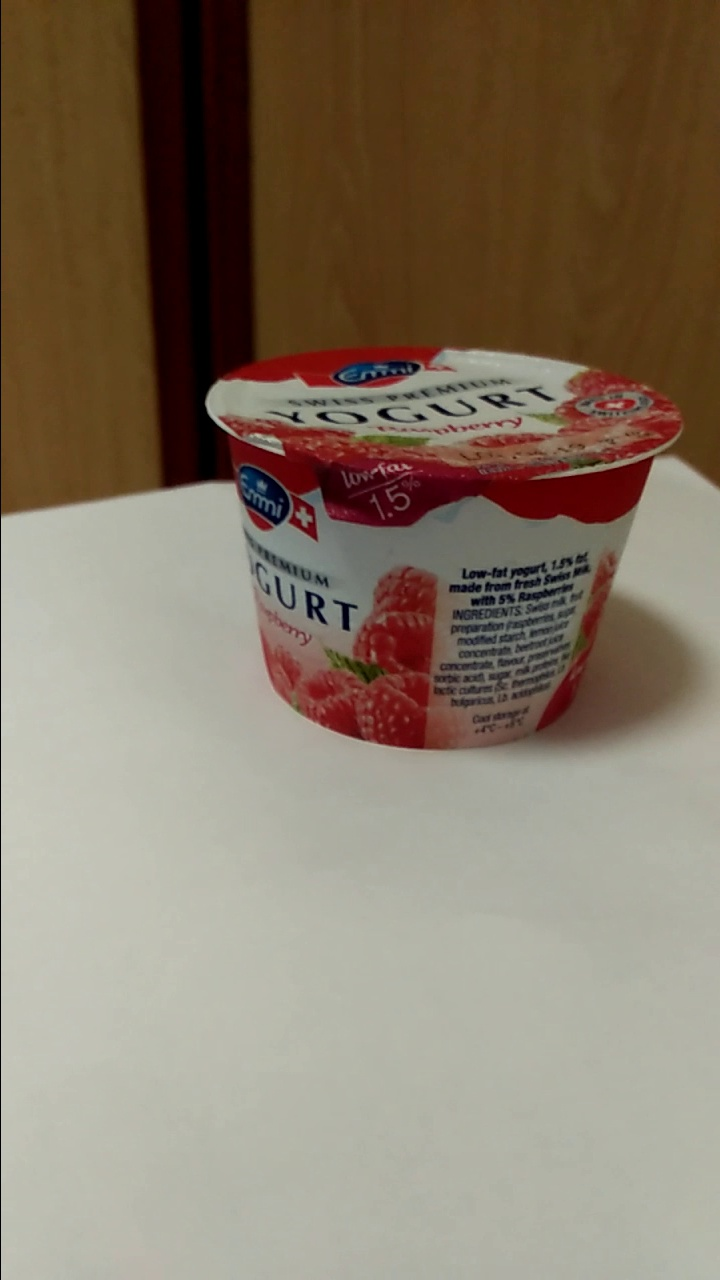yogurt: (203, 343, 686, 747)
